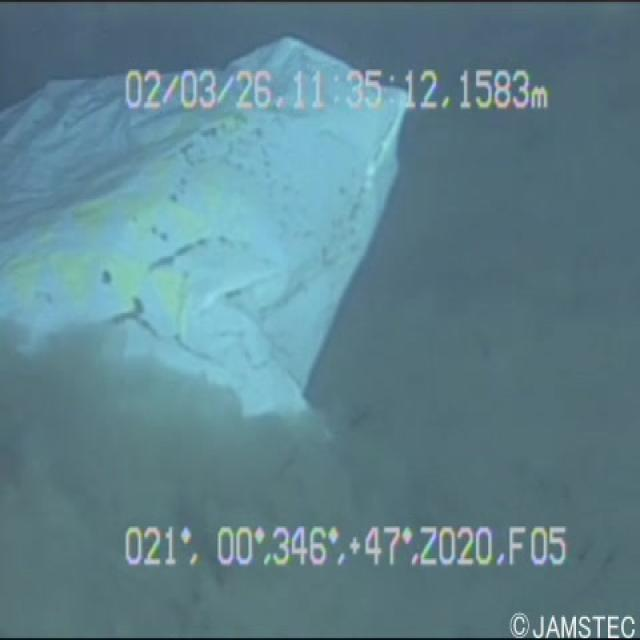plastic: (0, 30, 441, 456)
